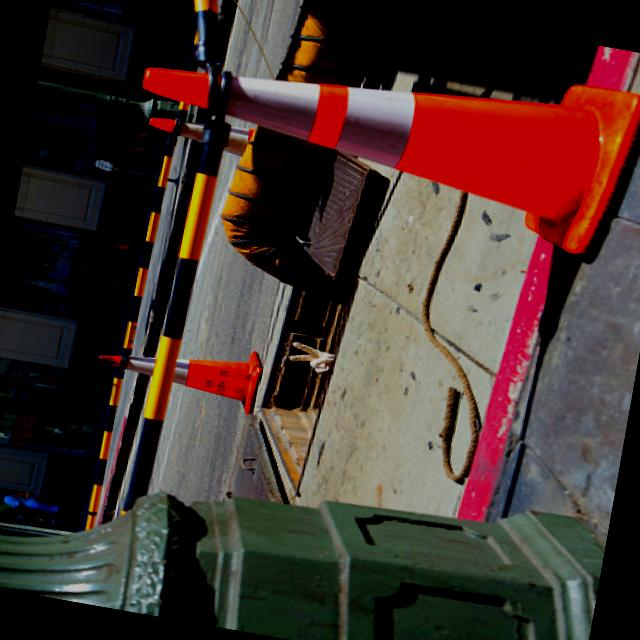cone: (122, 0, 640, 270), (88, 319, 266, 413)
